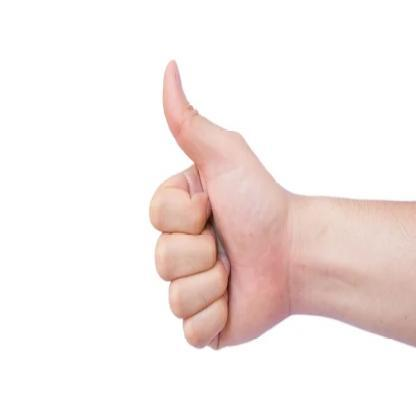thumb_up: (148, 54, 296, 352)
